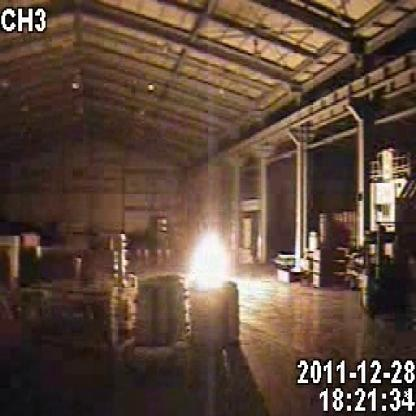fire: (180, 217, 247, 309)
